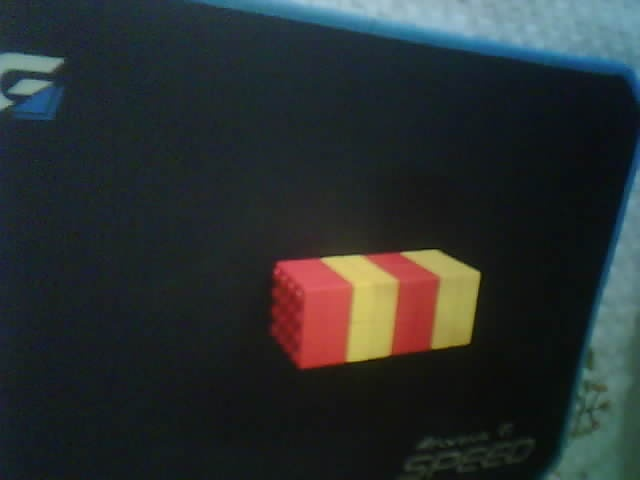lego: (267, 247, 481, 371)
